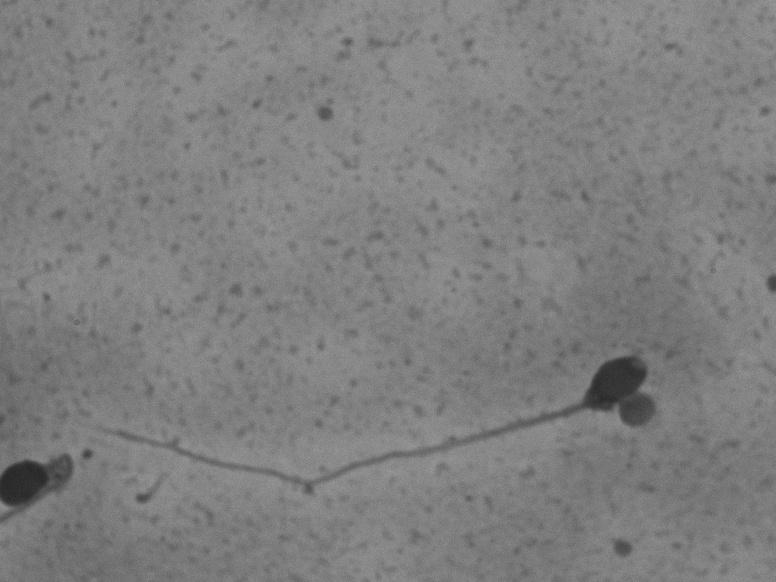Abnormal: (114, 294, 669, 509)
